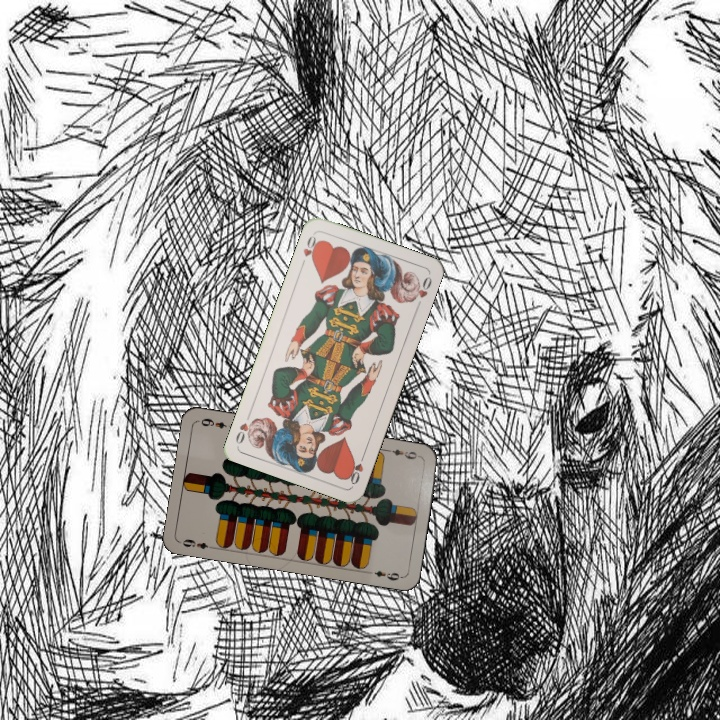E9: (383, 445, 423, 462), (177, 535, 217, 552)
HO: (297, 231, 322, 269), (344, 449, 368, 487)
